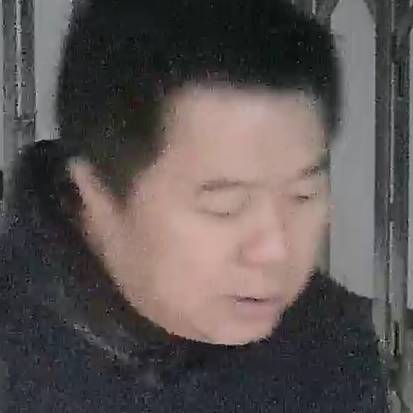caibo: (87, 46, 369, 349)
